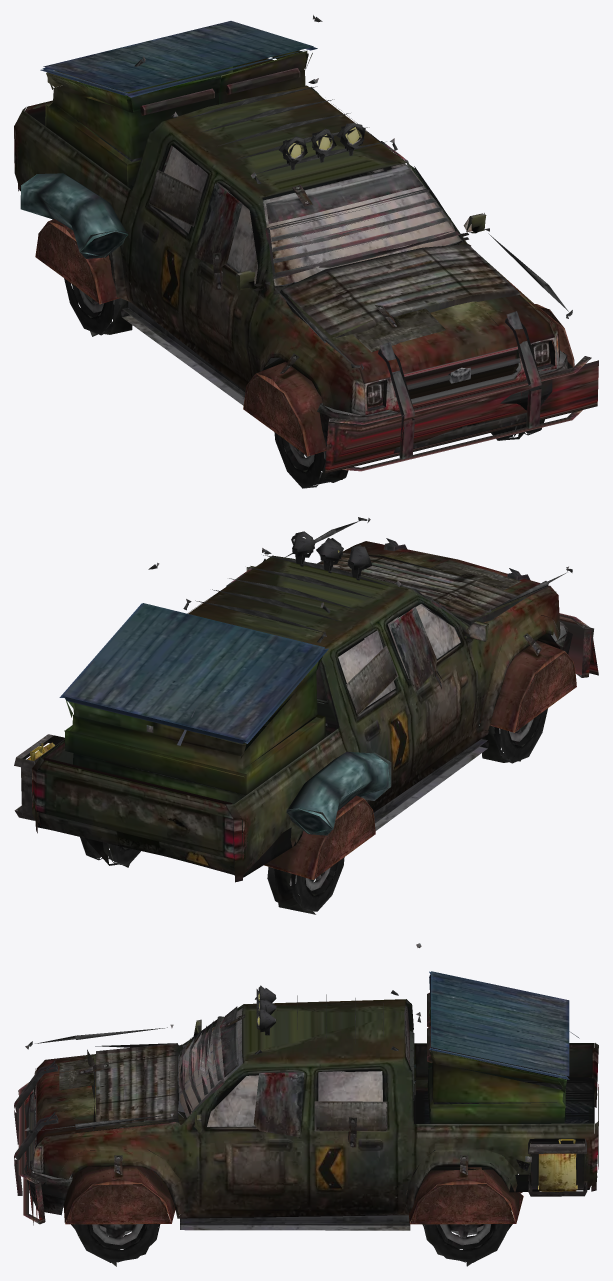
The model's file is zombie-pickup-lite.glb.
The picture shows the model from 3 angles, top to bottom: view 1: azimuth 30°, elevation 25°; view 2: azimuth 150°, elevation 25°; view 3: azimuth 270°, elevation 25°; orthographic projection. The views are drawn at different scales.
Parts seen in each view (by area): view 1: Object_23; view 2: Object_23; view 3: Object_23.
Boxes of the visible parts, x1,y1,x2,y2 form: Object_23: (14, 15, 598, 488); Object_23: (14, 517, 598, 914); Object_23: (14, 943, 598, 1266).
Bounding box in the file's own units: 2.55 × 2.46 × 5.3.
Materials: 3 (3 with a texture image).
